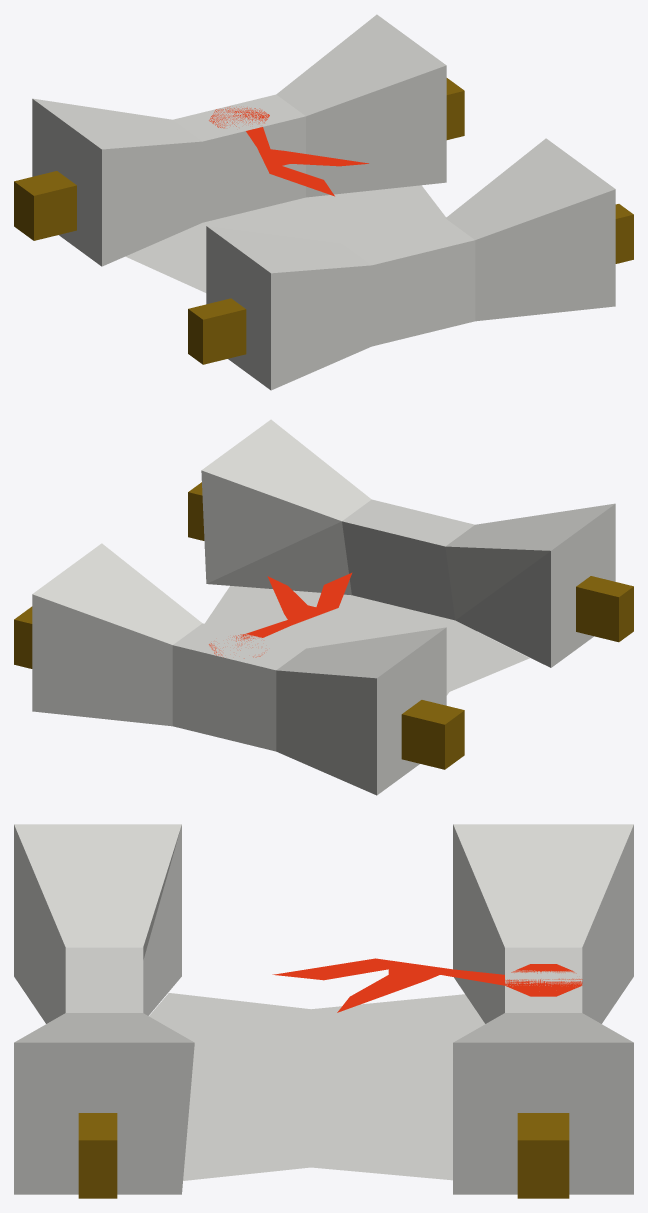
The model's file is inv_warrant.obj.
3 renders of one model, top to bottom at view 1: azimuth 30°, elevation 25°; view 2: azimuth 150°, elevation 25°; view 3: azimuth 270°, elevation 25°, orthographic. The views are drawn at different scales.
Size of the model in its own units: 0.3906 by 0.1016 by 0.375.
